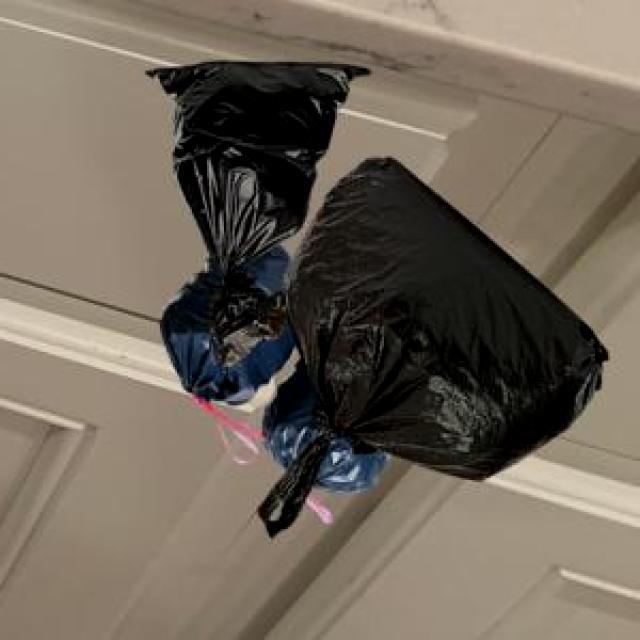Trashbag: (251, 154, 613, 543), (137, 57, 310, 270), (163, 258, 265, 410)
